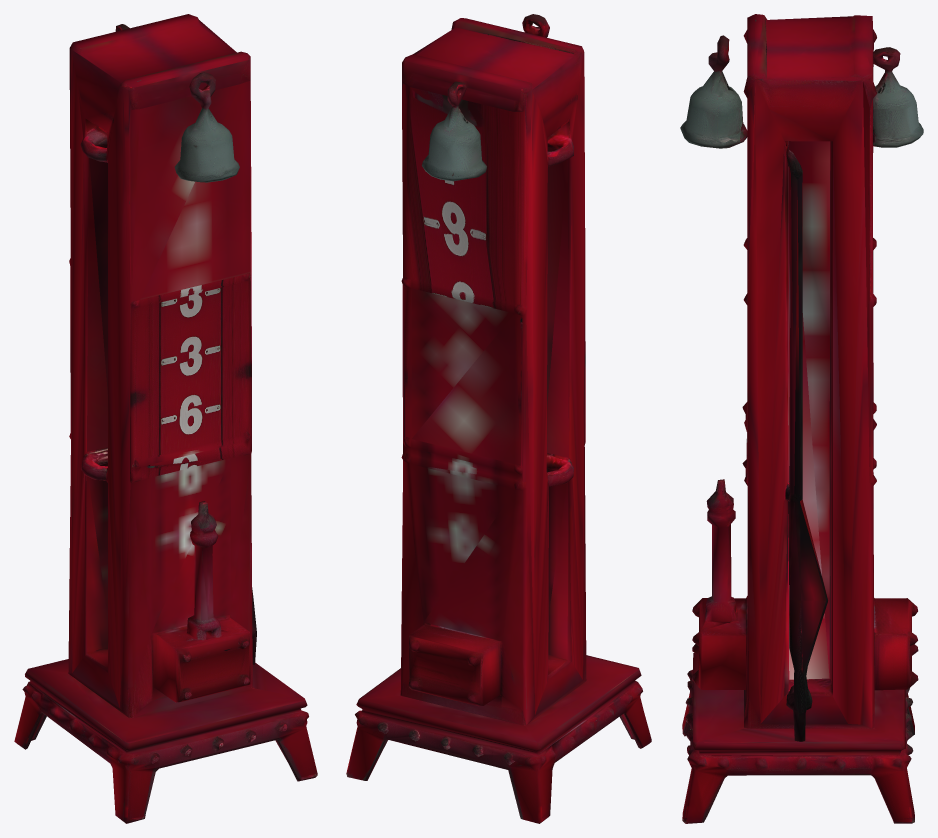
The model's file is fuerzaMar.fbx.
3 renders of one model, left to right at view 1: azimuth 30°, elevation 25°; view 2: azimuth 150°, elevation 25°; view 3: azimuth 270°, elevation 25°, orthographic. The views are drawn at different scales.
Visible parts, largest first — view 1: Mesh_0; view 2: Mesh_0; view 3: Mesh_0.
Boxes of the visible parts, x1,y1,x2,y2 form: Mesh_0: (14, 14, 317, 823); Mesh_0: (346, 14, 651, 823); Mesh_0: (680, 14, 923, 823).
Size of the model in its own units: 54.4 by 191 by 56.94.
1 material, 1 textured.
